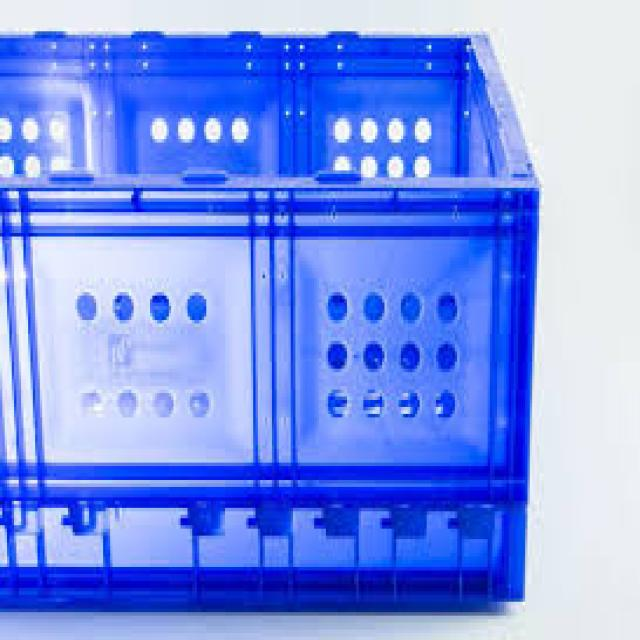basket: (0, 34, 542, 611)
